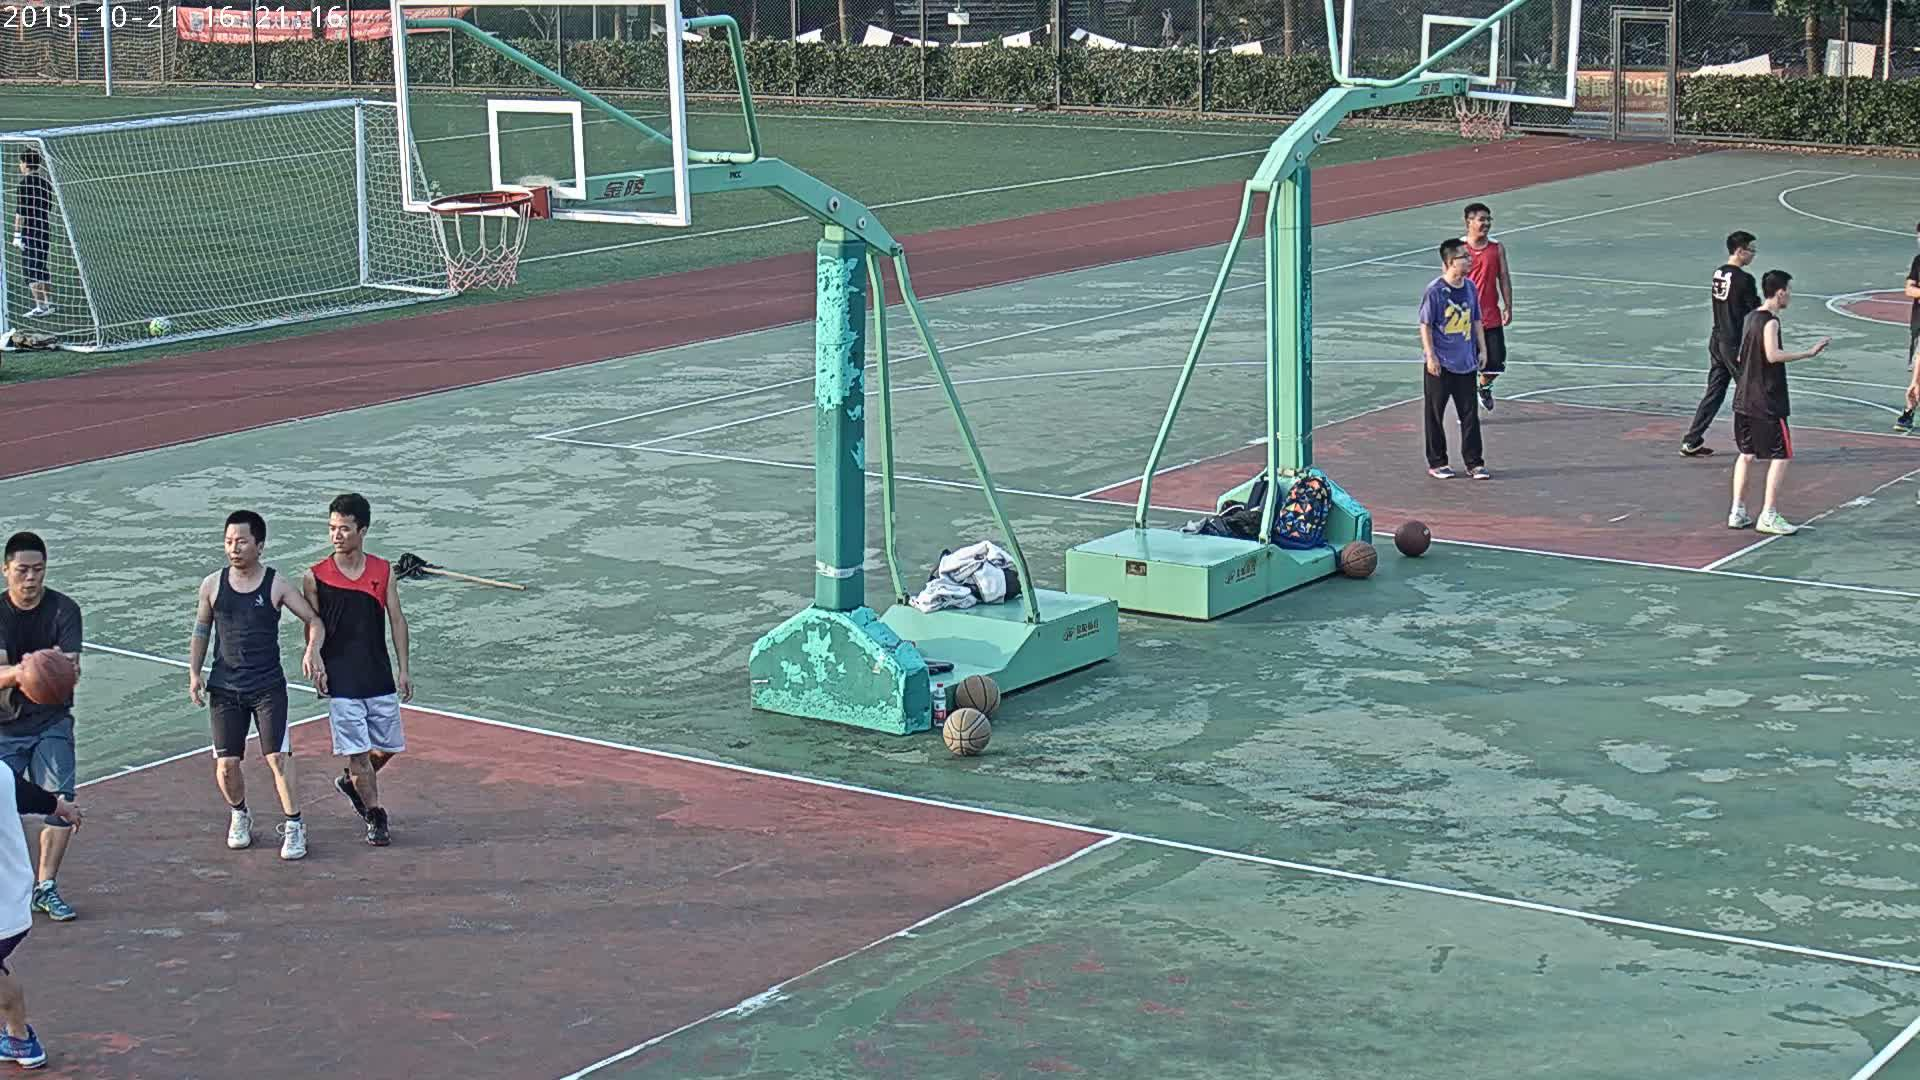person: (188, 509, 325, 861), (302, 492, 410, 845), (0, 531, 84, 923), (1727, 269, 1832, 533), (0, 744, 80, 1071), (1679, 230, 1762, 459), (1418, 237, 1487, 479), (1440, 202, 1511, 424), (13, 149, 58, 317), (1892, 221, 1918, 430)
